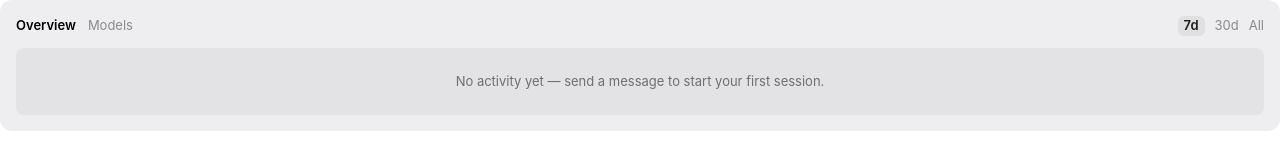
OverviewCard stats › Models tab shows empty text when unused
This screenshot has width=1280, height=160.
Click the button "Models" at coordinates (110, 26), box [88,16,133,36]
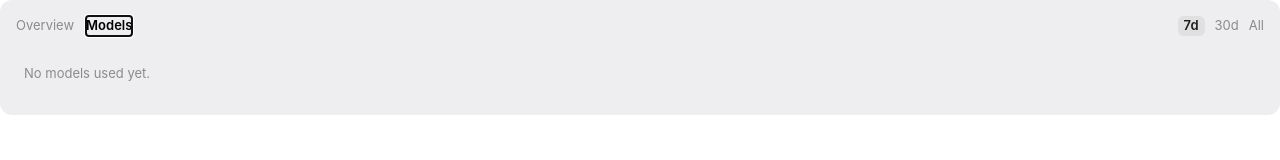
Expected: the text "No models used yet." is shown, [24,64,150,80]
